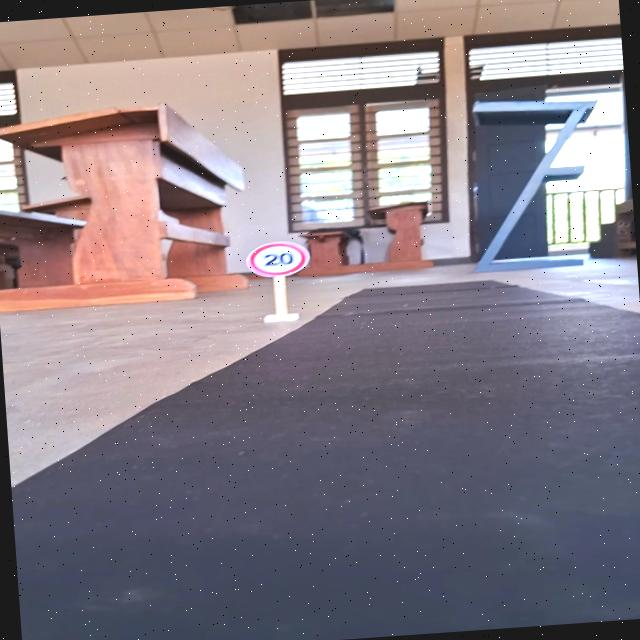Speed20: (242, 234, 315, 280)
